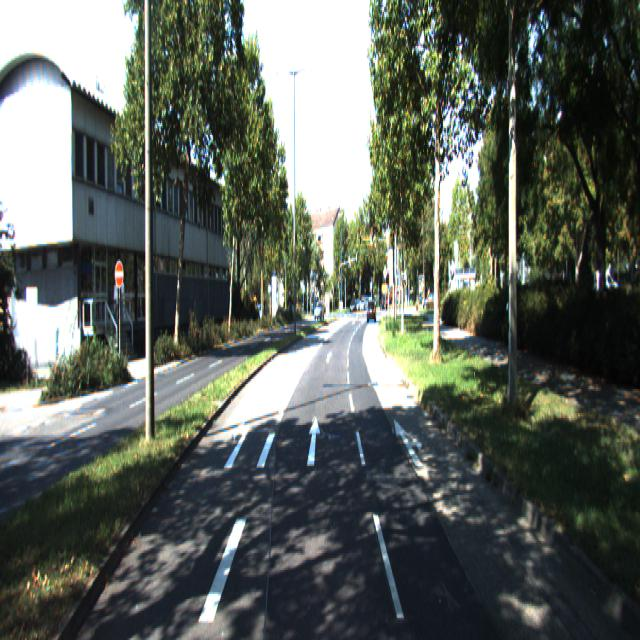Car: (367, 300, 377, 324)
